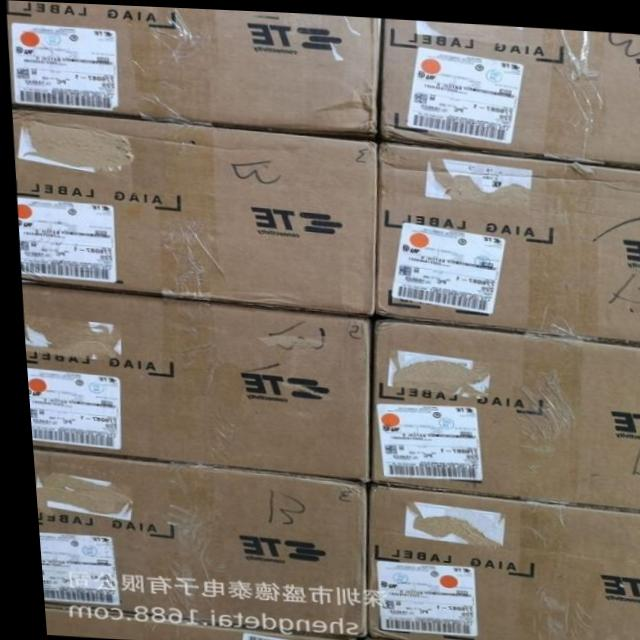box: (10, 106, 375, 315), (17, 280, 367, 480), (26, 447, 361, 636), (371, 136, 640, 339), (361, 314, 640, 507), (6, 0, 381, 134), (357, 481, 640, 640), (378, 15, 640, 163)
